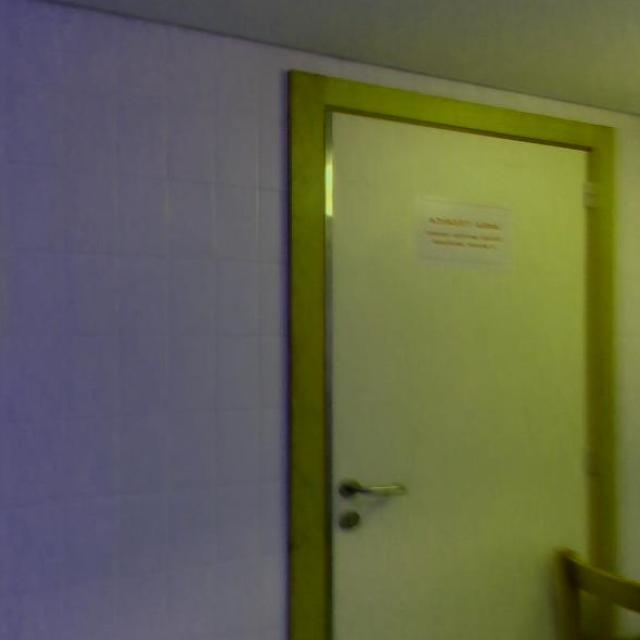door: (322, 103, 596, 639)
